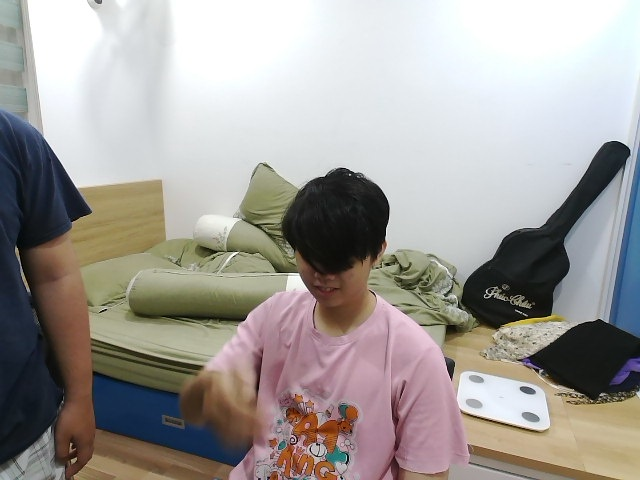face: (280, 168, 390, 308)
